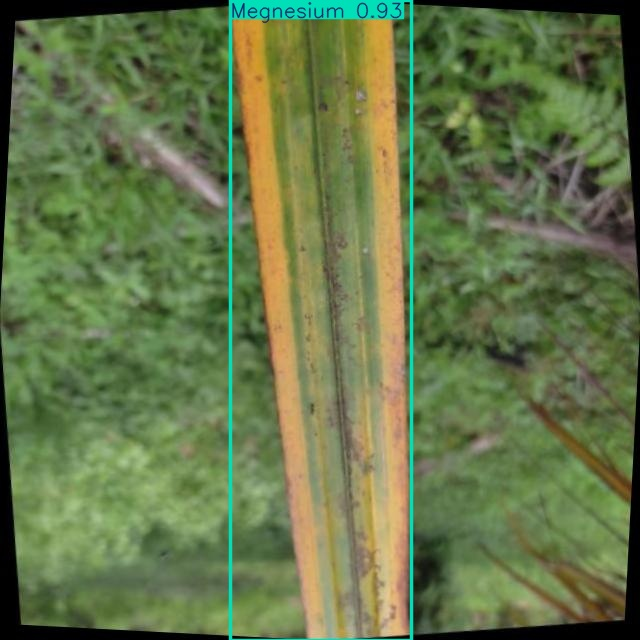Megnesium: (231, 0, 411, 640)
